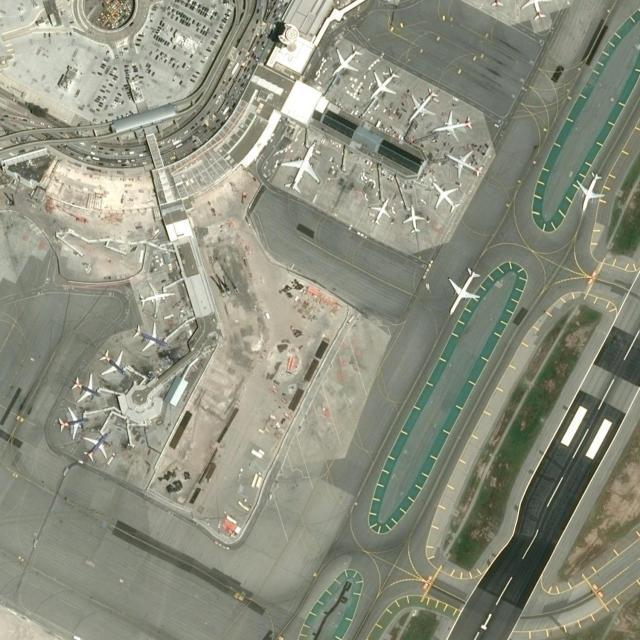Aircraft: (280, 142, 322, 192), (445, 267, 481, 313), (575, 167, 605, 215), (330, 45, 359, 75), (450, 147, 480, 175), (406, 92, 436, 119), (431, 182, 455, 212), (365, 69, 391, 91), (369, 197, 387, 228), (402, 205, 421, 231)
